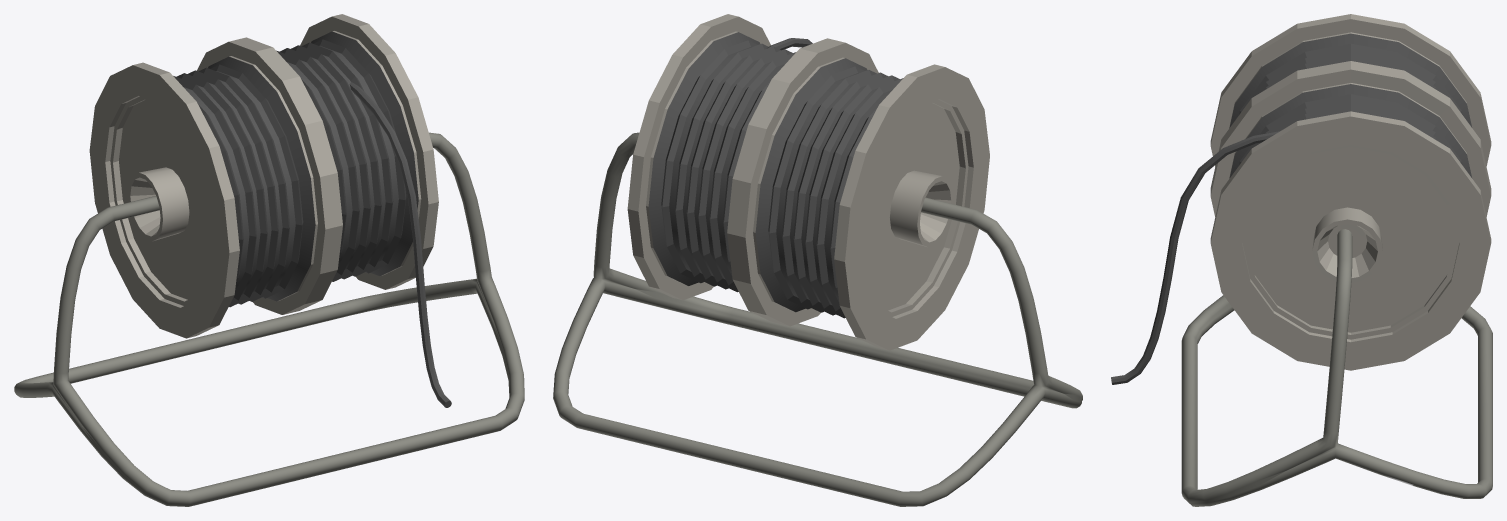
The model's file is cabledrum_01.fbx.
3 renders of one model, left to right at view 1: azimuth 30°, elevation 25°; view 2: azimuth 150°, elevation 25°; view 3: azimuth 270°, elevation 25°, orthographic. The views are drawn at different scales.
Visible parts, largest first — view 1: cabledrum_01; view 2: cabledrum_01; view 3: cabledrum_01.
Boxes of the visible parts, bbox=[...] form: cabledrum_01: bbox=[14, 14, 524, 506]; cabledrum_01: bbox=[553, 14, 1082, 506]; cabledrum_01: bbox=[1111, 14, 1492, 506].
Size of the model in its own units: 149 by 117 by 112.
